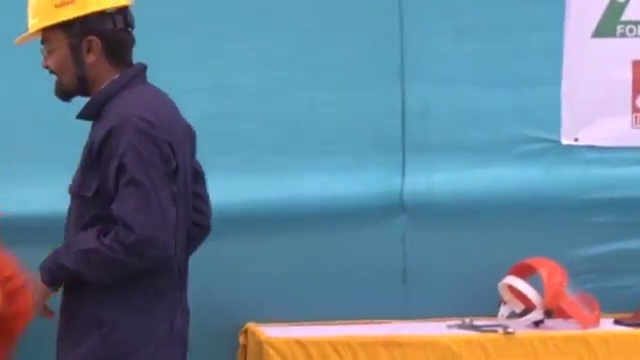helmet: (13, 1, 132, 45)
helmet_on: (13, 1, 144, 103)
person: (12, 1, 220, 359)
